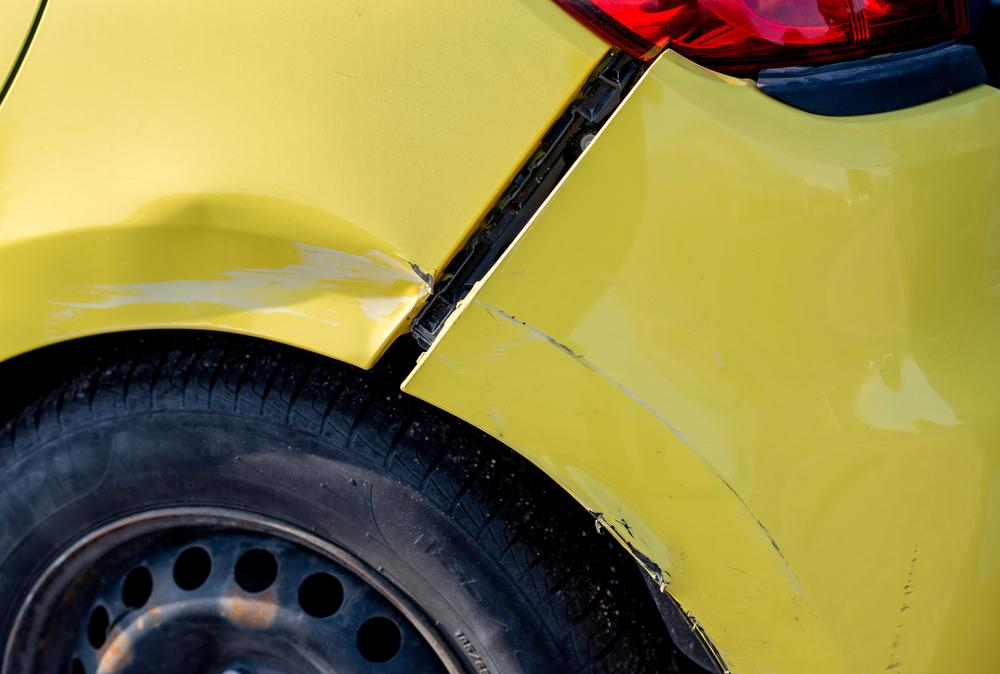dent: (111, 196, 422, 365)
scratch: (478, 297, 793, 561), (882, 539, 923, 674)
